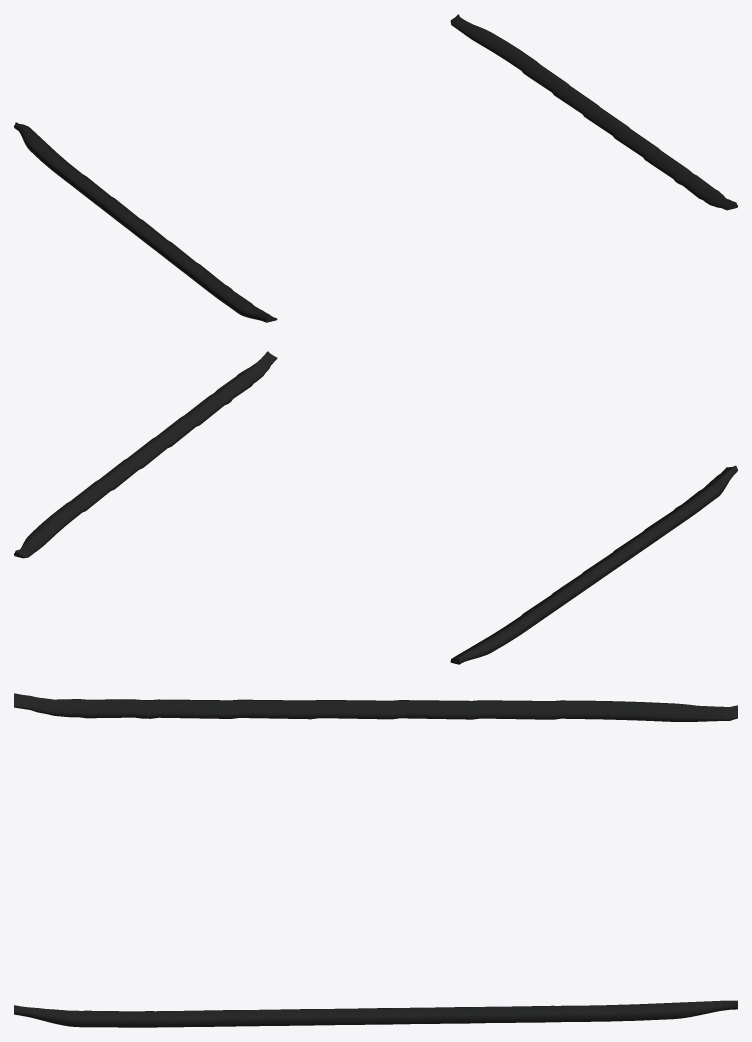
File: RA42_side_extenders_carbon.glb
3 views of the same model, one above another, from view 1: azimuth 30°, elevation 25°; view 2: azimuth 150°, elevation 25°; view 3: azimuth 270°, elevation 25° (orthographic). The views are drawn at different scales.
Parts seen in each view (by area): view 1: MOD_NA_RA42_blade_L, MOD_NA_RA42_blade_R; view 2: MOD_NA_RA42_blade_L, MOD_NA_RA42_blade_R; view 3: MOD_NA_RA42_blade_R, MOD_NA_RA42_blade_L.
Part boxes in pixels (box(x1,y1,x2,y2)): MOD_NA_RA42_blade_L: box(450, 14, 737, 210); MOD_NA_RA42_blade_R: box(14, 122, 277, 322); MOD_NA_RA42_blade_L: box(14, 351, 277, 558); MOD_NA_RA42_blade_R: box(450, 465, 737, 664); MOD_NA_RA42_blade_R: box(14, 693, 737, 721); MOD_NA_RA42_blade_L: box(14, 1000, 737, 1027).
Size of the model in its own units: 1.59 by 0.0424 by 1.52.
1 material, 1 textured.
